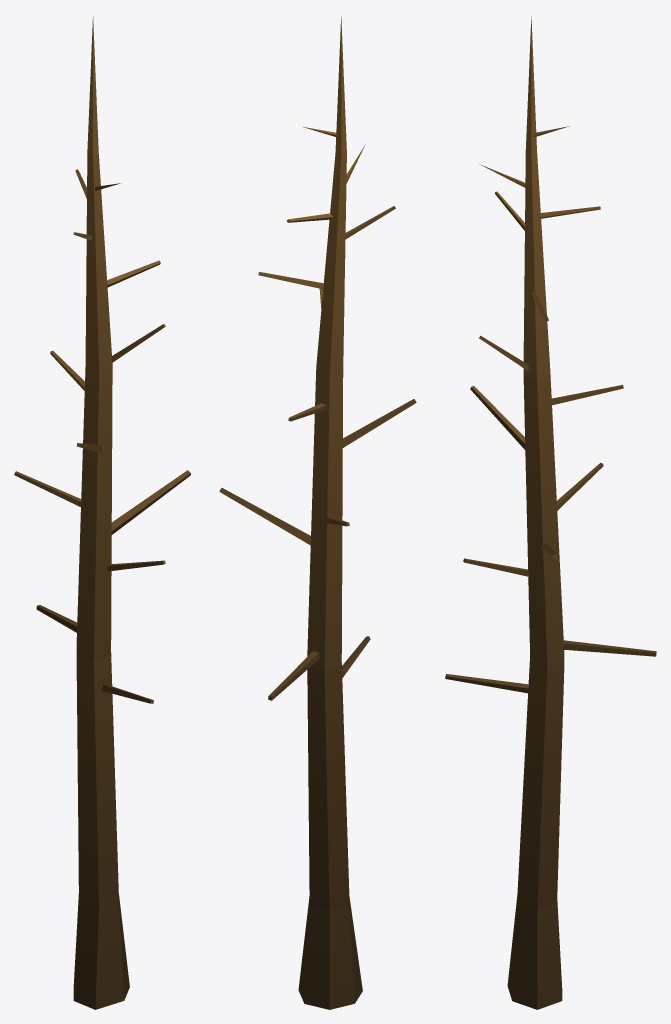
The model's file is Summer_Tree_07.glb.
The picture shows the model from 3 angles, left to right: view 1: azimuth 30°, elevation 25°; view 2: azimuth 150°, elevation 25°; view 3: azimuth 270°, elevation 25°; orthographic projection.
Parts seen in each view (by area): view 1: Summer_Tree_07_LOD0; view 2: Summer_Tree_07_LOD0; view 3: Summer_Tree_07_LOD0.
Boxes of the visible parts, box(x1,y1,x2,y2) form: Summer_Tree_07_LOD0: box(14, 16, 190, 1009); Summer_Tree_07_LOD0: box(219, 16, 416, 1009); Summer_Tree_07_LOD0: box(445, 16, 656, 1009).
Size of what is drawn, in the model's own units: 1.2 by 7.23 by 1.42.
Materials: 1 (1 with a texture image).
